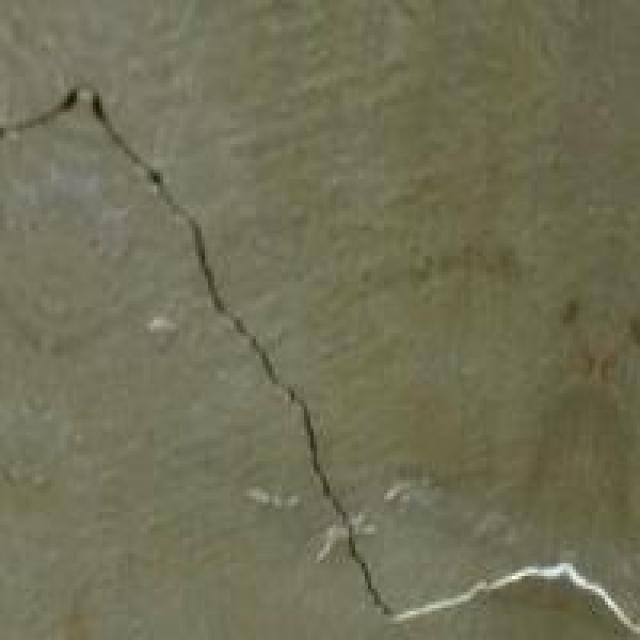Crack: (6, 74, 637, 636)
